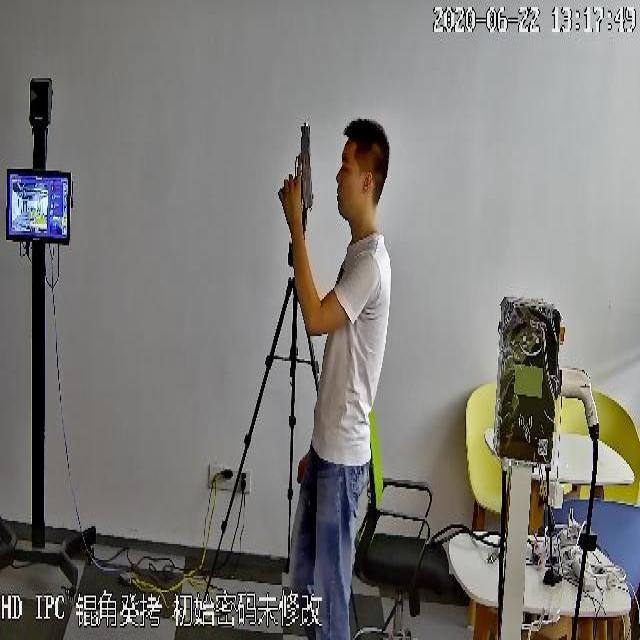pistol: (278, 115, 316, 218)
